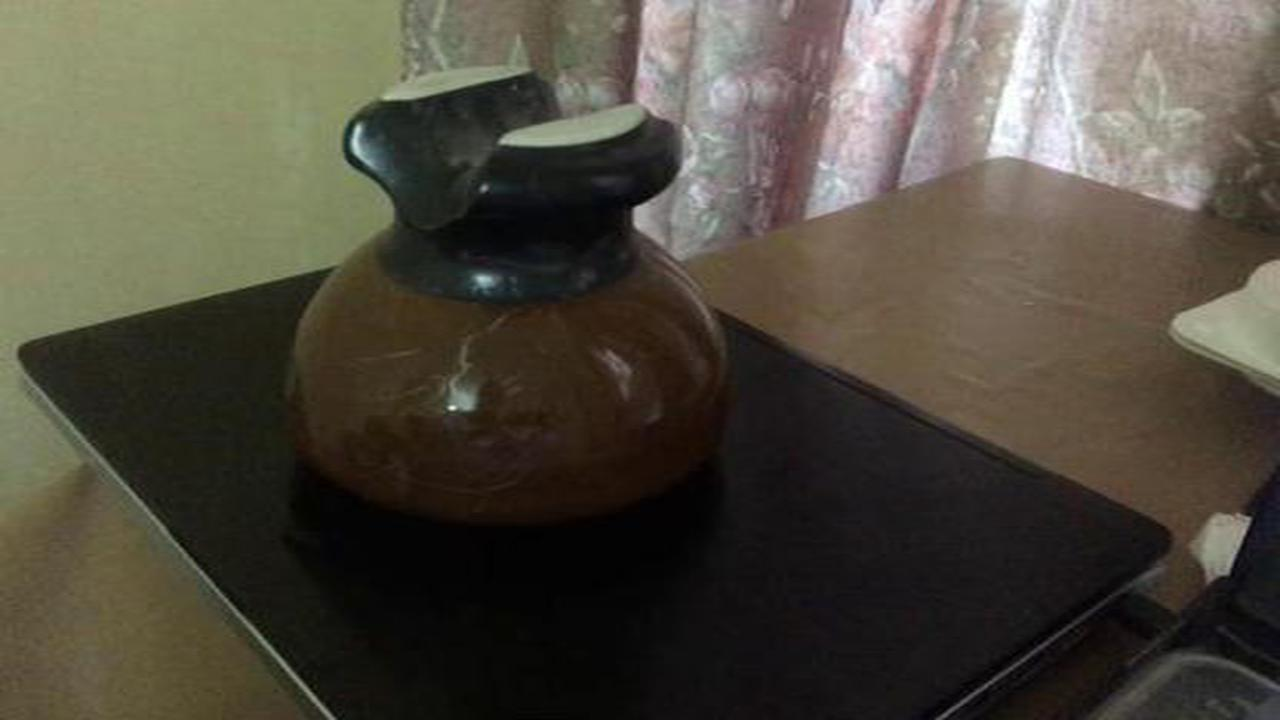insulator_pin: (267, 57, 751, 544)
